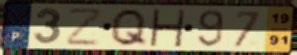3: (32, 7, 62, 46)
7: (233, 10, 263, 48)
9: (196, 8, 226, 48)
H: (148, 8, 188, 48)
Q: (108, 7, 149, 48)
Z: (65, 7, 105, 47)
